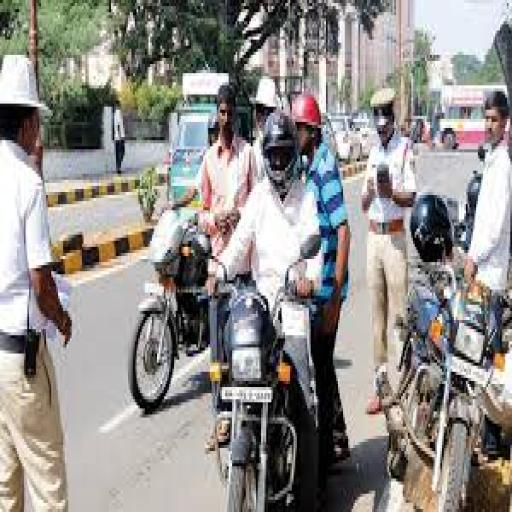helmet: (260, 107, 300, 192)
